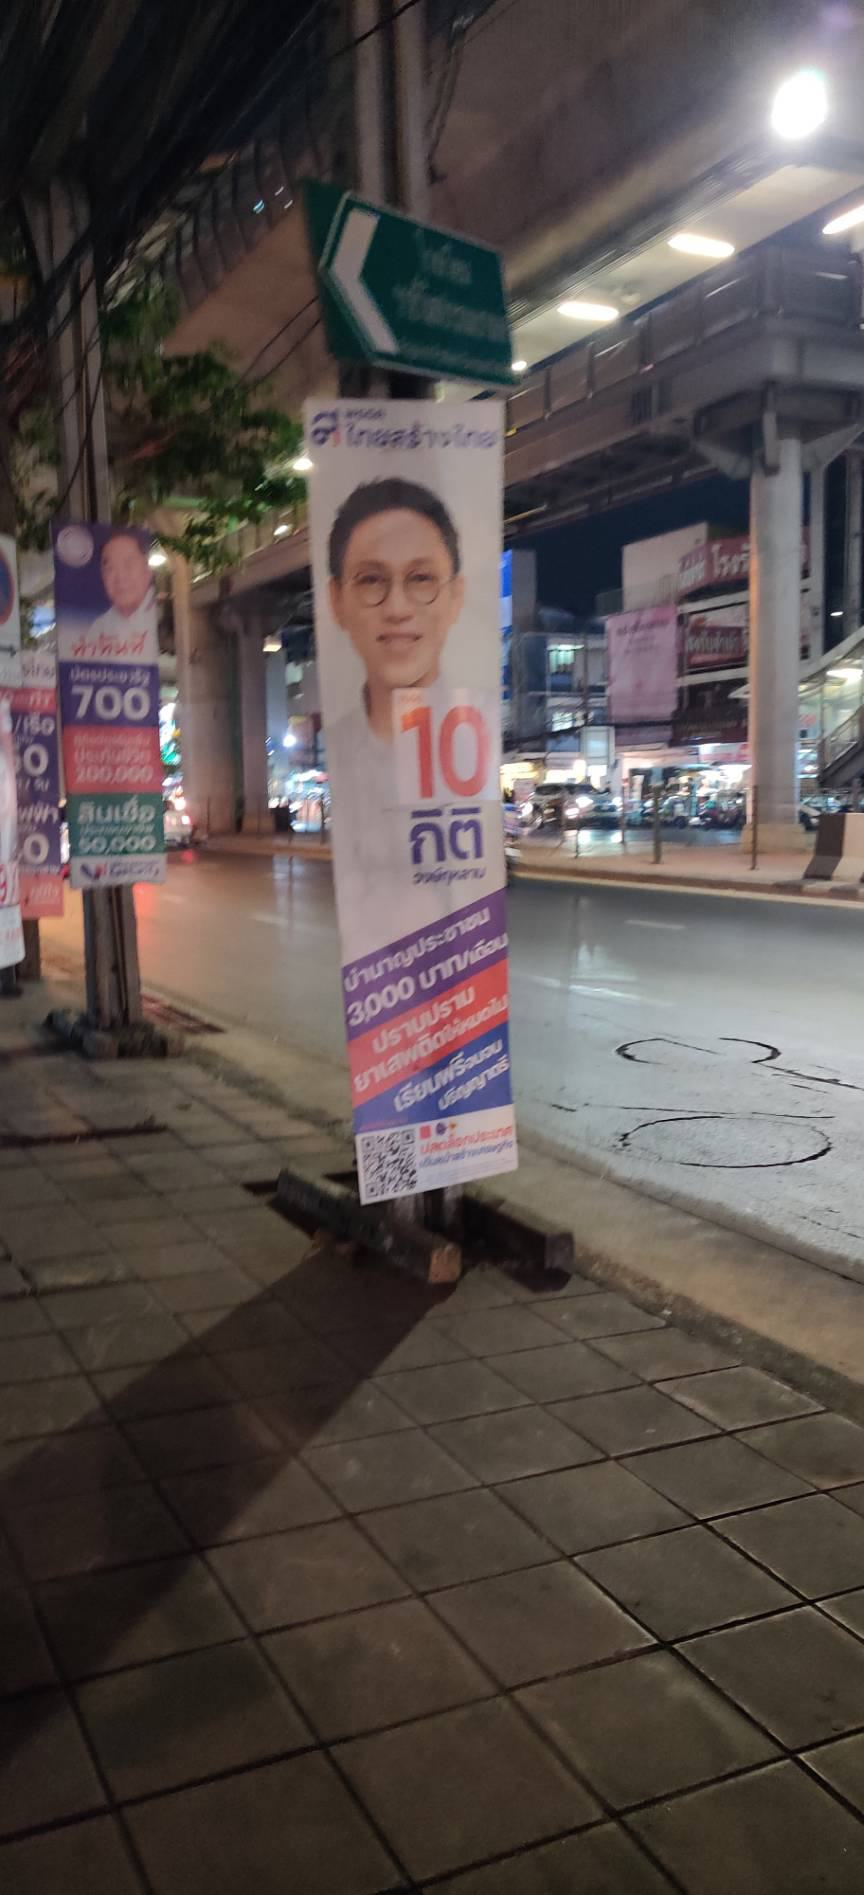Banner: (300, 389, 537, 1209), (56, 518, 175, 894)
